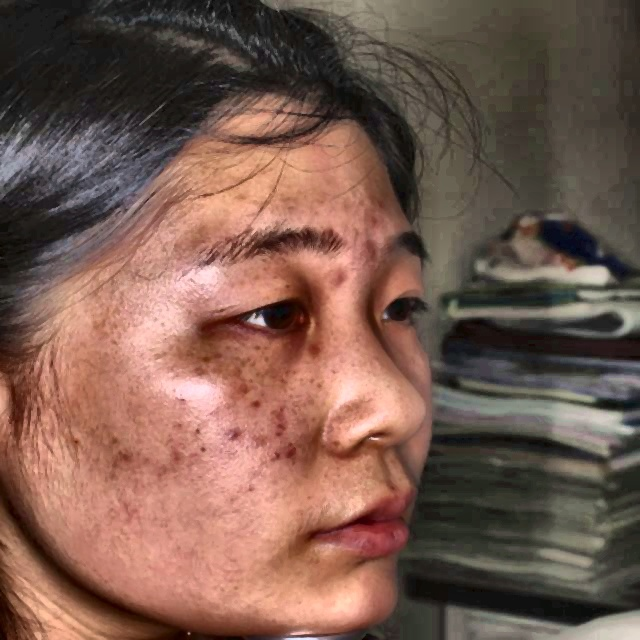comedone: (327, 266, 358, 295), (221, 421, 245, 448), (355, 242, 386, 262)
